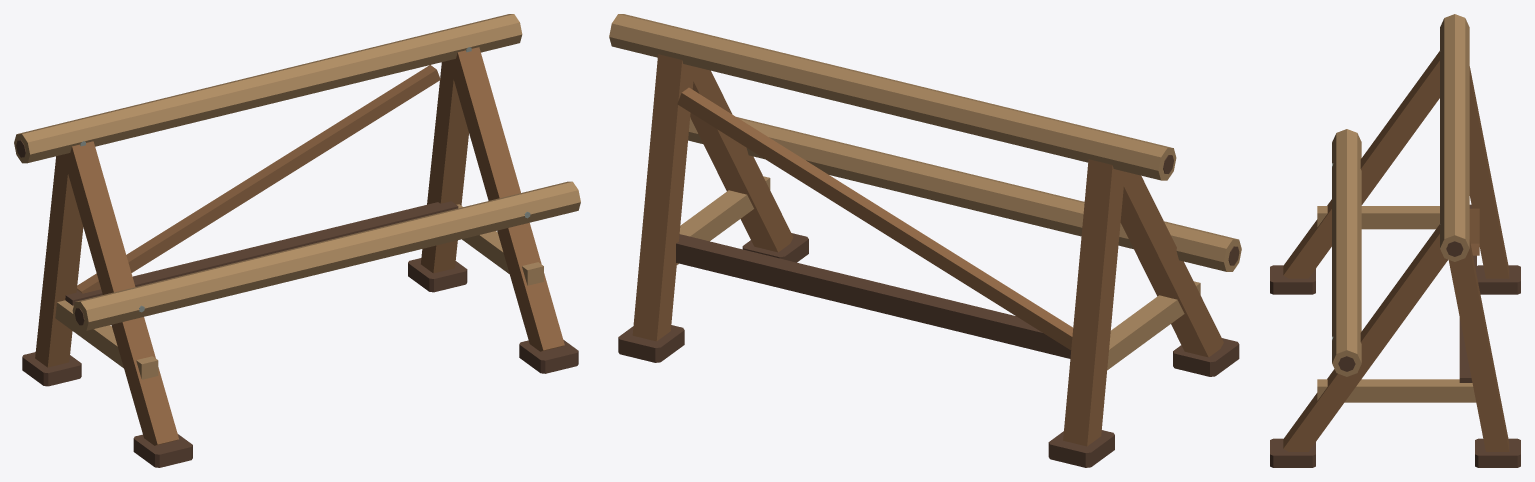
Rendered from perch.glb.
3 views of the same model, side by side, from view 1: azimuth 30°, elevation 25°; view 2: azimuth 150°, elevation 25°; view 3: azimuth 270°, elevation 25° (orthographic). The views are drawn at different scales.
Parts seen in each view (by area): view 1: geometry; view 2: geometry; view 3: geometry.
Part boxes in pixels (x1,y1,x2,y2): geometry: (14,14,580,467); geometry: (609,14,1241,467); geometry: (1270,14,1520,467).
Size of the model in its own units: 1.95 by 1.01 by 0.93.
